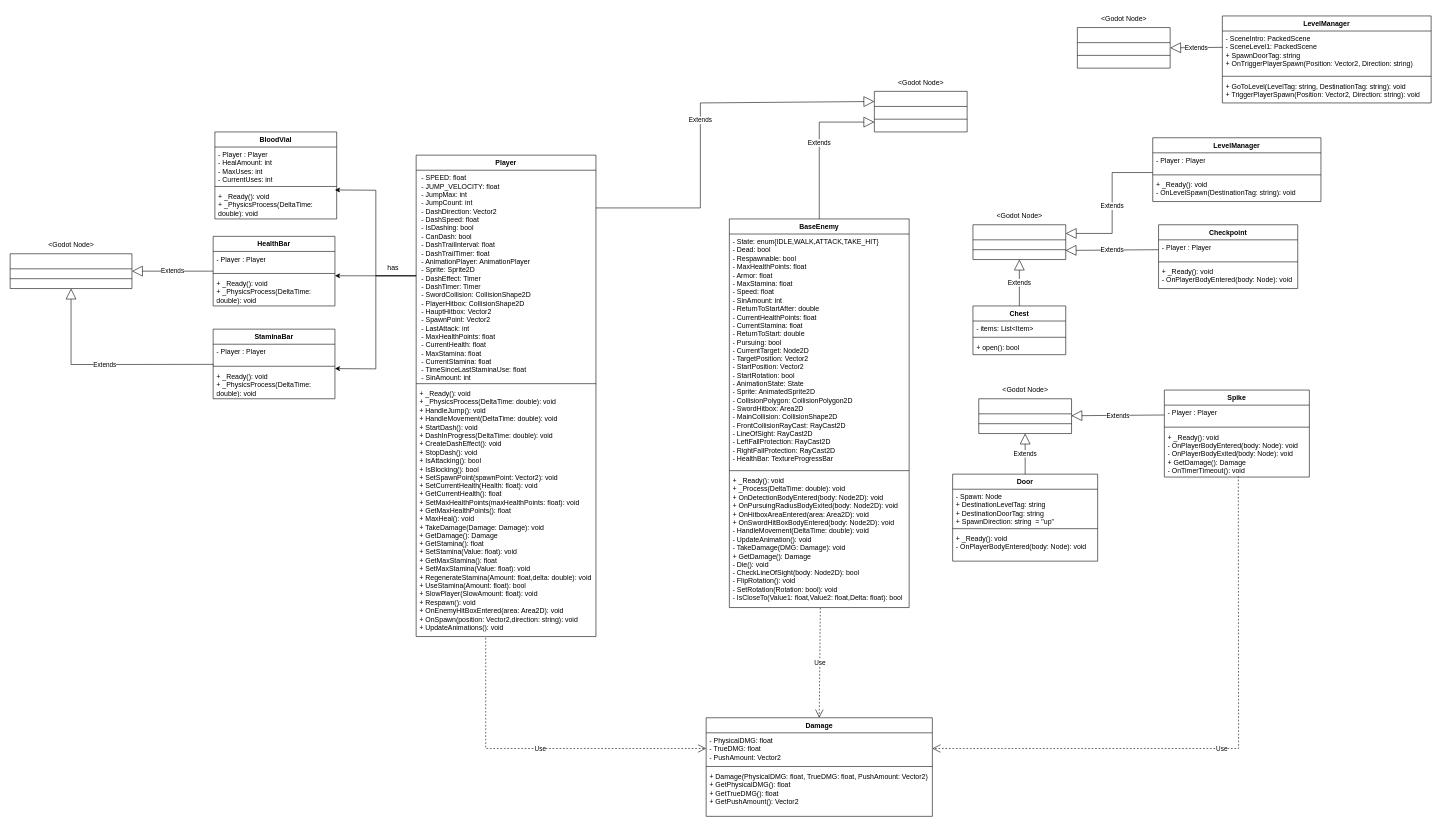
Image size: 1441x828. Some labels were removed from this diagram. Each missing label, with the centre of its shape:
Area2D: (x=1025, y=416)
CharakterBody2D: (x=920, y=111)
Node: (x=1123, y=47)
Node2D: (x=1019, y=242)
TextureProgressBar: (x=71, y=271)
